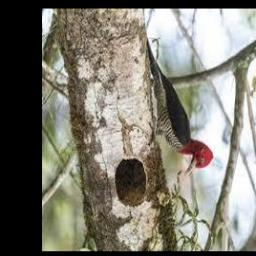Woodpecker: (146, 39, 213, 179)
